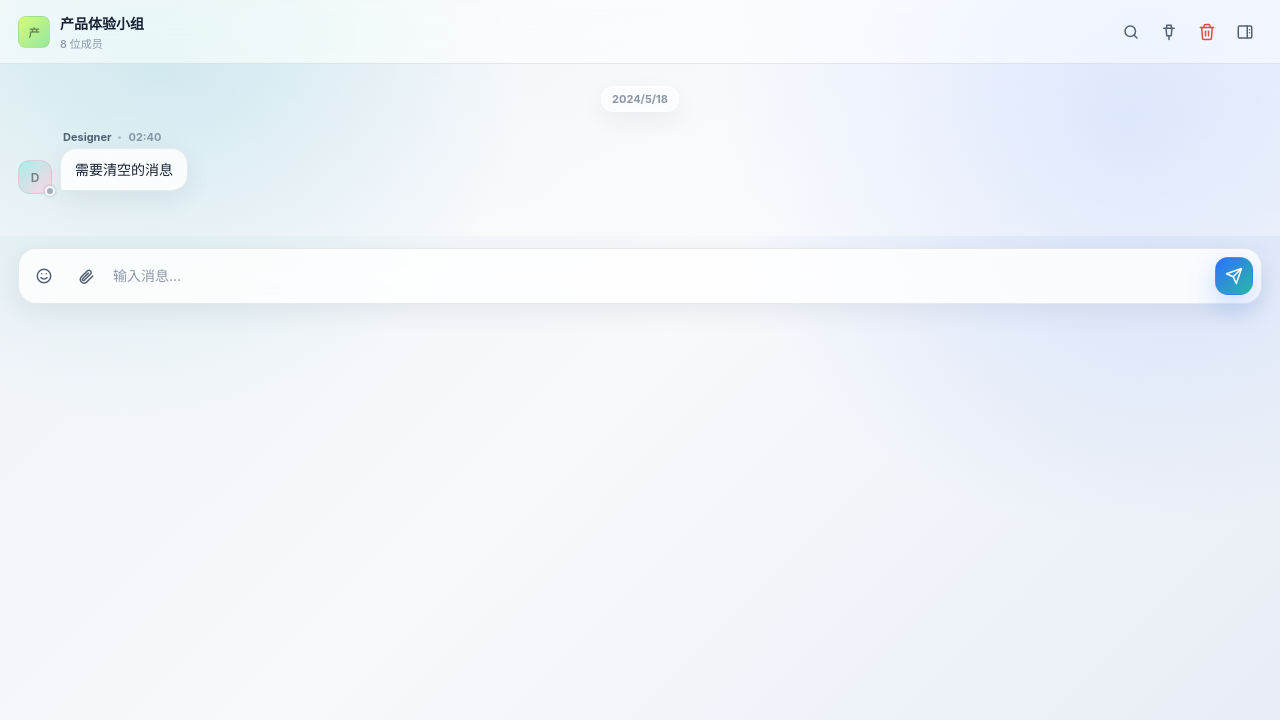
Test case: ChatWindow › clears visible messages from the header action in preview mode
This screenshot has width=1280, height=720.
Step 1. Click the button named "清空当前会话消息" → (1207, 32), box [1190, 14, 1224, 48]
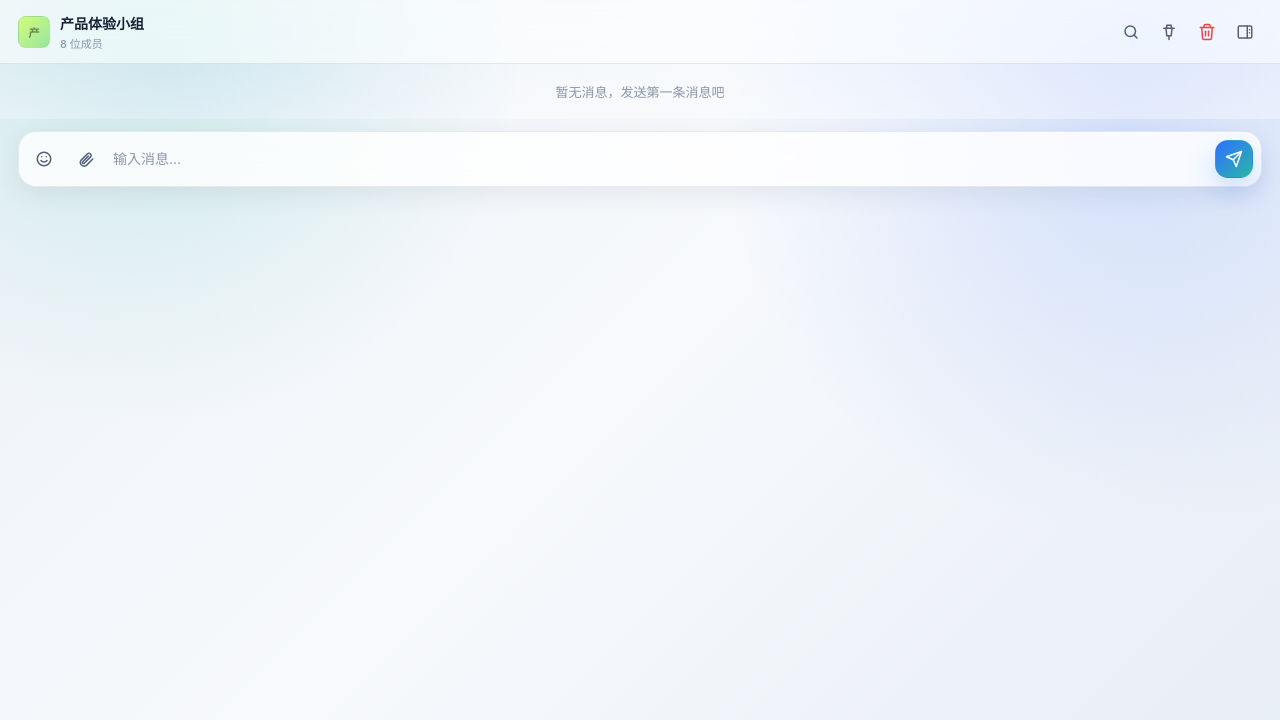
Now the text "需要清空的消息" is gone
